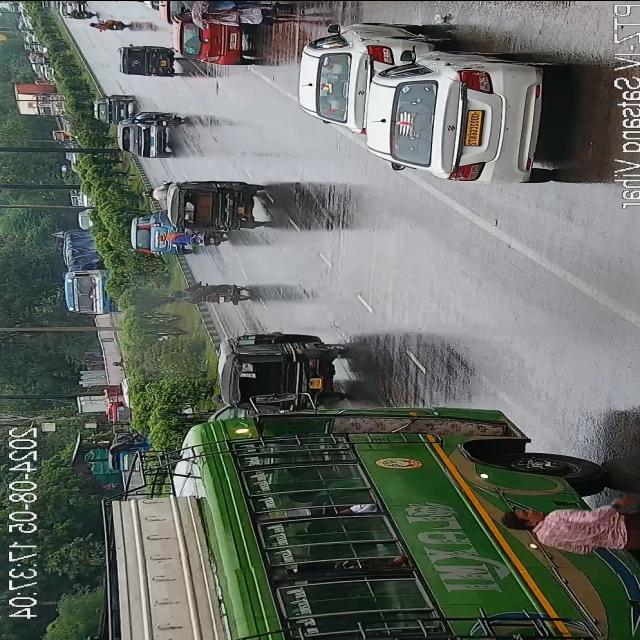2-wheelers: (182, 278, 246, 308), (162, 230, 226, 258), (89, 18, 128, 34)
auto: (230, 332, 350, 407), (180, 180, 260, 228), (120, 46, 170, 78), (105, 388, 137, 424), (49, 129, 73, 142)
bus: (120, 419, 640, 640)
car: (364, 32, 554, 186), (299, 25, 413, 127), (184, 24, 248, 65), (132, 116, 168, 164), (97, 95, 131, 127), (114, 376, 140, 408), (76, 210, 100, 228)
pedestrian: (492, 497, 640, 554), (200, 1, 276, 28), (178, 0, 268, 8)
truck: (60, 229, 116, 315), (18, 80, 70, 118)
